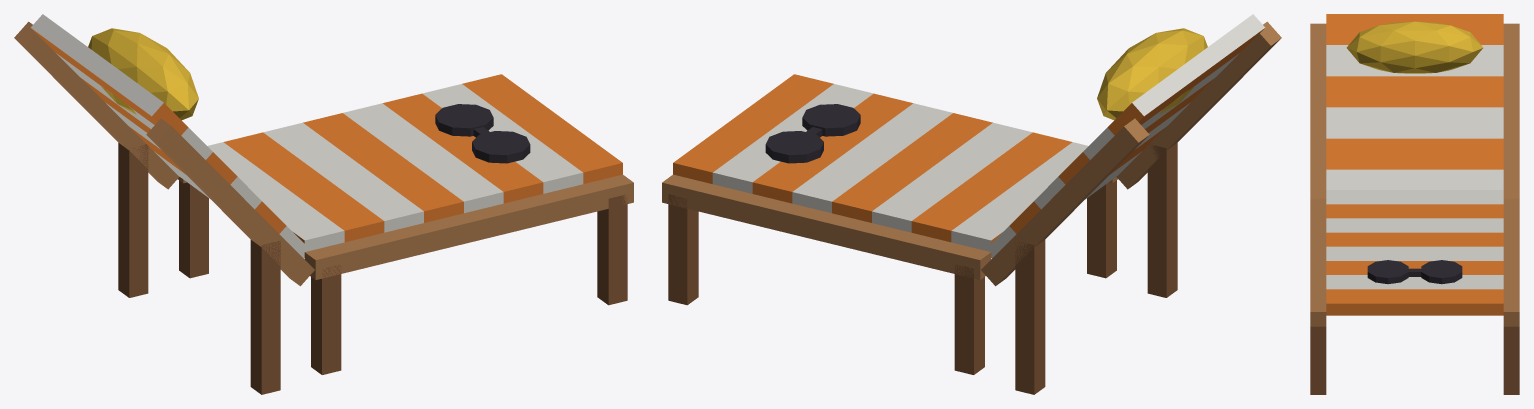
Rendered from habitat_prop_sunny.fbx.
The picture shows the model from 3 angles, left to right: view 1: azimuth 30°, elevation 25°; view 2: azimuth 150°, elevation 25°; view 3: azimuth 270°, elevation 25°; orthographic projection. The views are drawn at different scales.
Visible parts, largest first — view 1: habitat_prop_sunny; view 2: habitat_prop_sunny; view 3: habitat_prop_sunny.
Boxes of the visible parts, x1=… form: habitat_prop_sunny: x1=14, y1=14, x2=633, y2=394; habitat_prop_sunny: x1=662, y1=14, x2=1281, y2=394; habitat_prop_sunny: x1=1310, y1=14, x2=1519, y2=394.
Bounding box in the file's own units: 1.5 × 0.9359 × 0.78.
